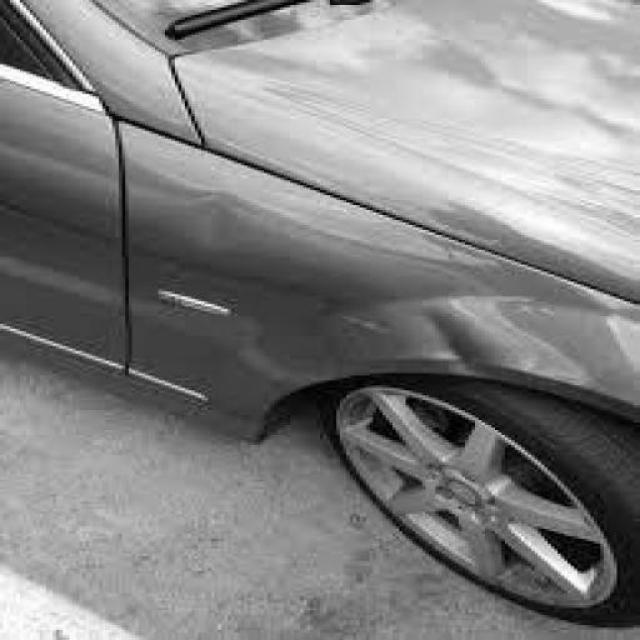dent: (357, 291, 640, 412), (247, 282, 330, 379), (195, 198, 238, 249)
